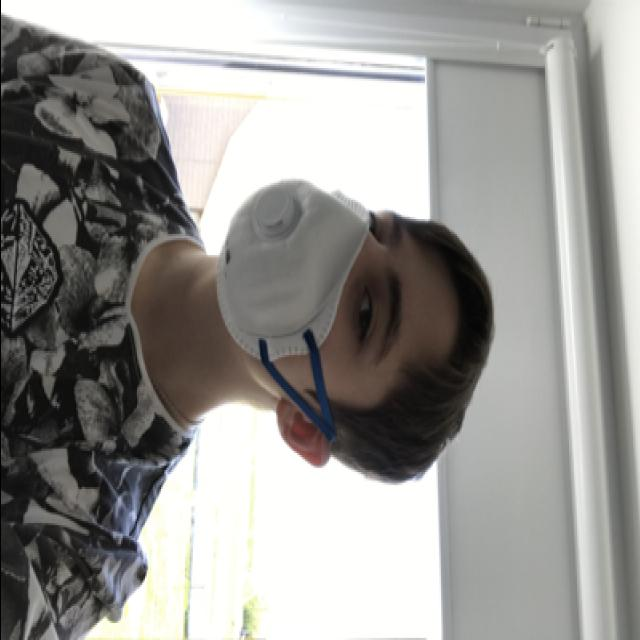with_mask: (214, 180, 420, 380)
